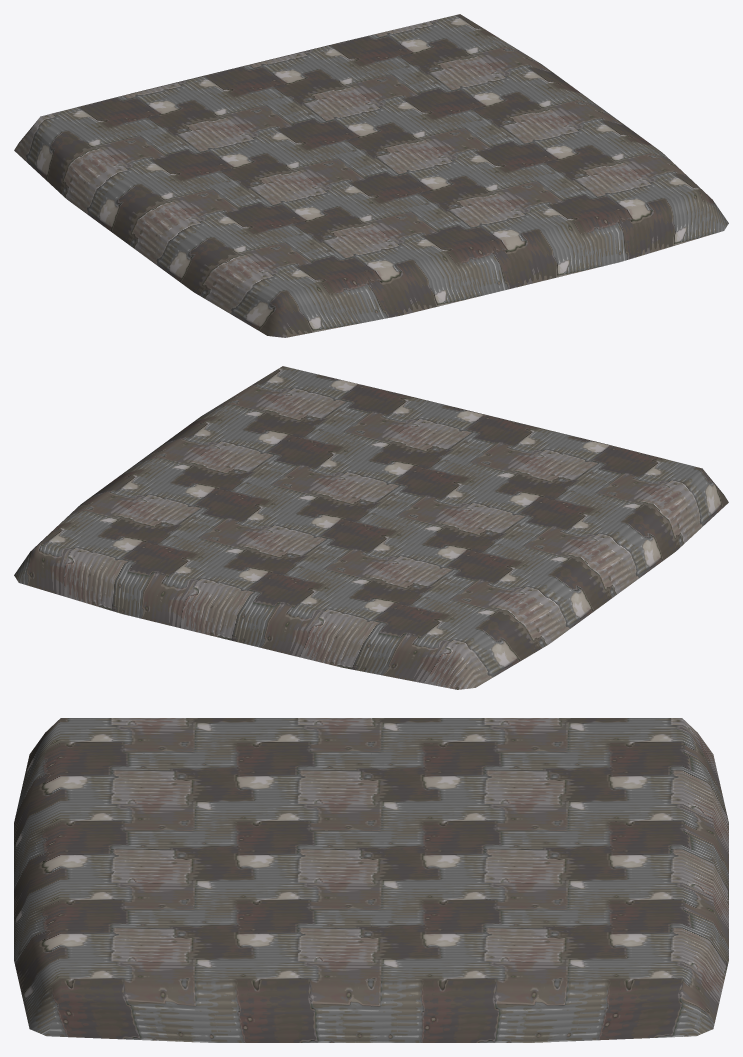
File: Forest_MetalPlate_Tile.fbx
3 renders of one model, top to bottom at view 1: azimuth 30°, elevation 25°; view 2: azimuth 150°, elevation 25°; view 3: azimuth 270°, elevation 25°, orthographic. The views are drawn at different scales.
Parts seen in each view (by area): view 1: Forest_MetalPlate_Tile; view 2: Forest_MetalPlate_Tile; view 3: Forest_MetalPlate_Tile.
Part boxes in pixels (x1,y1,x2,y2): Forest_MetalPlate_Tile: (14,14,728,337); Forest_MetalPlate_Tile: (14,366,728,689); Forest_MetalPlate_Tile: (14,718,728,1042).
Size of the model in its own units: 230 by 15 by 230.
